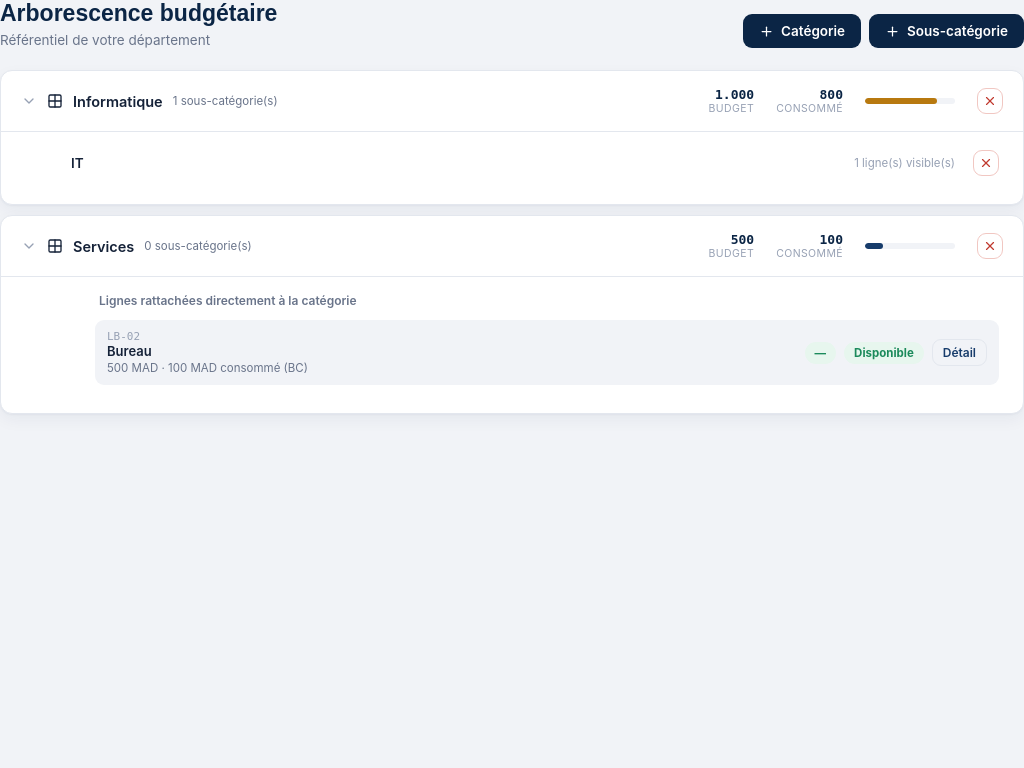
Test: ArborescenceBudgetaire › crée une sous-catégorie et gère les erreurs 422
Expected: the text "Informatique" is shown, [73, 92, 163, 110]
Click the button "Sous-catégorie": (946, 31) [869, 14, 1023, 48]
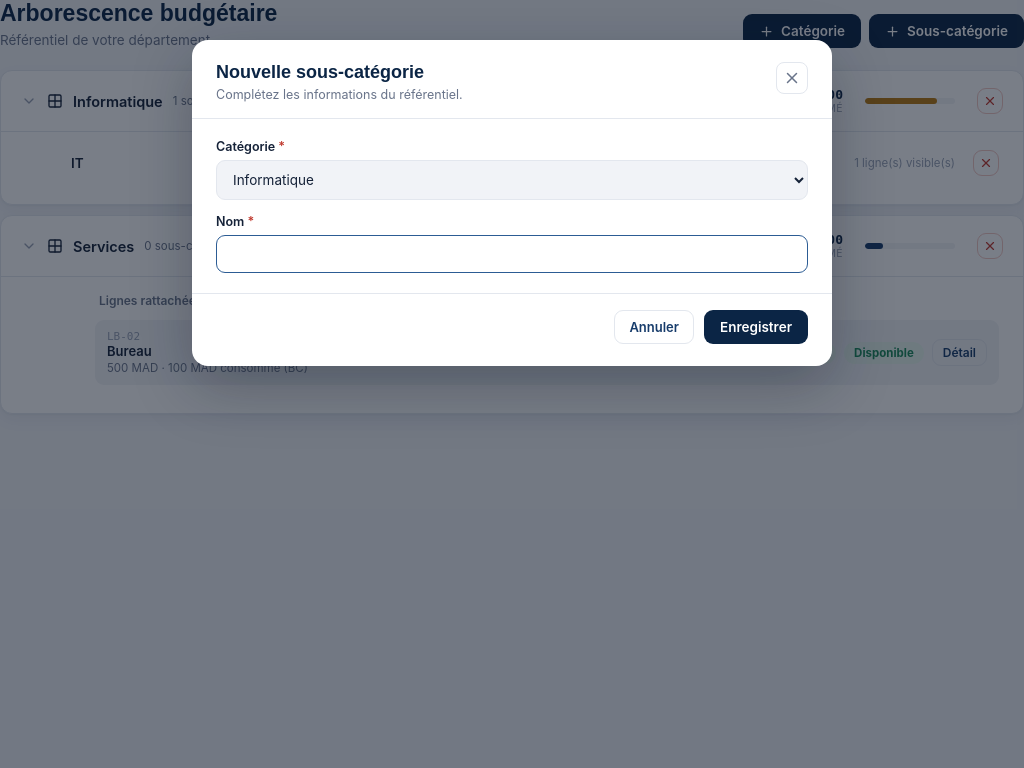
In the field: (512, 254) [216, 235, 808, 273], type "Réseau"
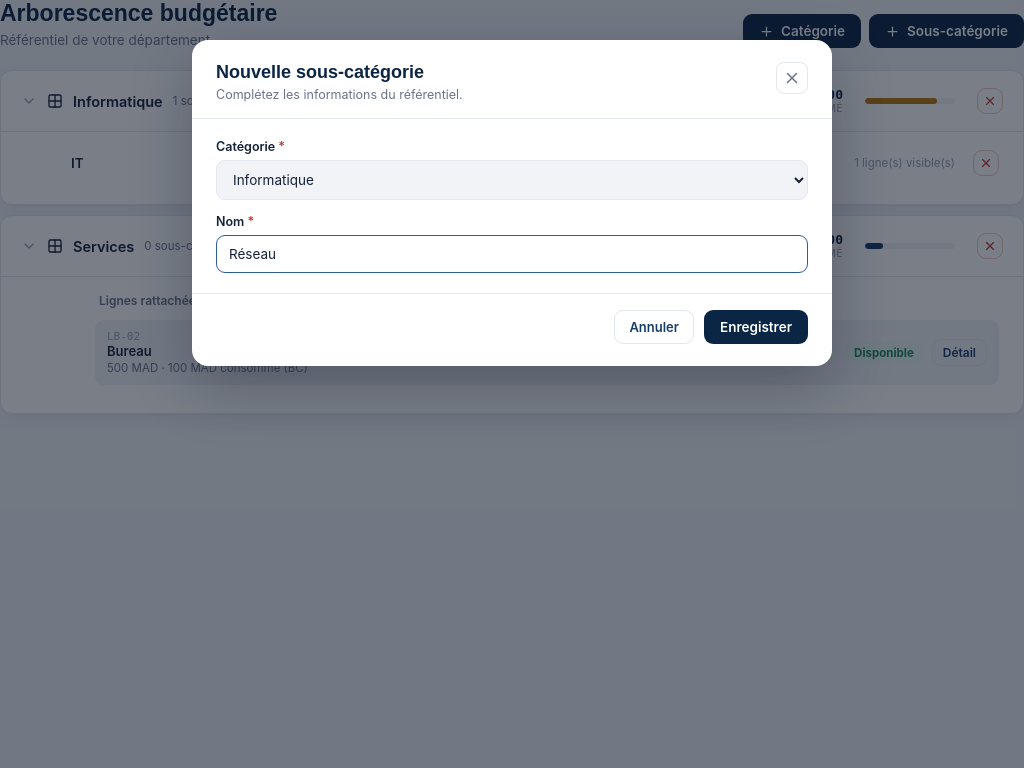
Click the button "Enregistrer": (756, 327) [704, 310, 808, 344]
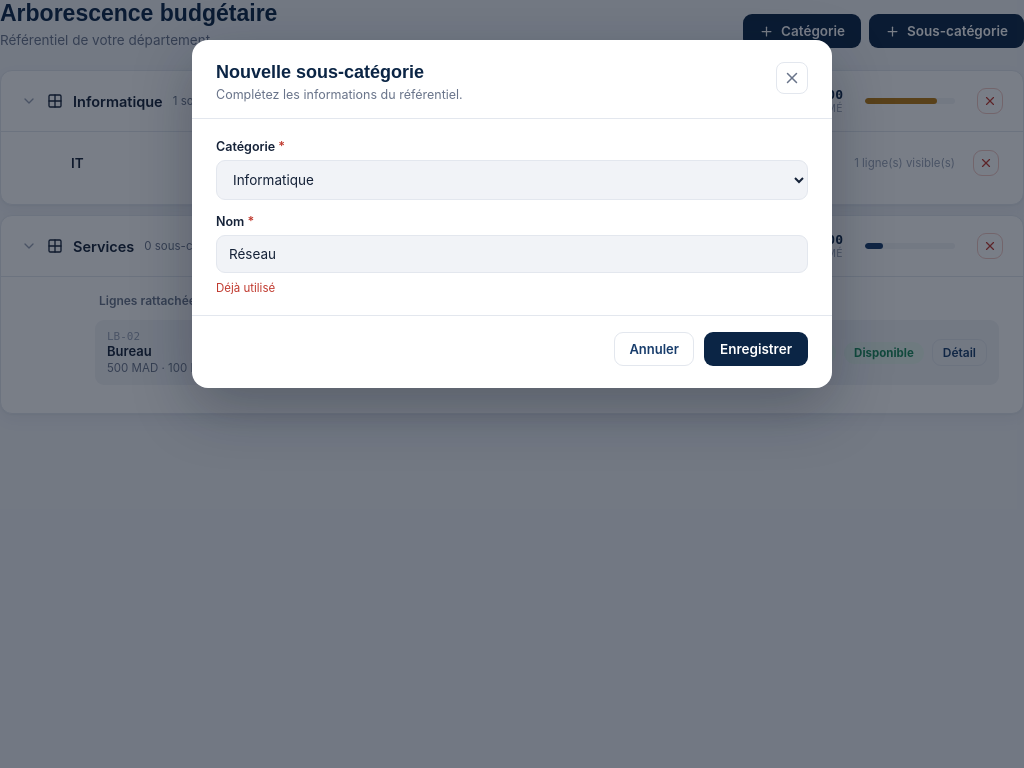
Result: the text "Déjà utilisé" is shown at [216, 281, 275, 295]
